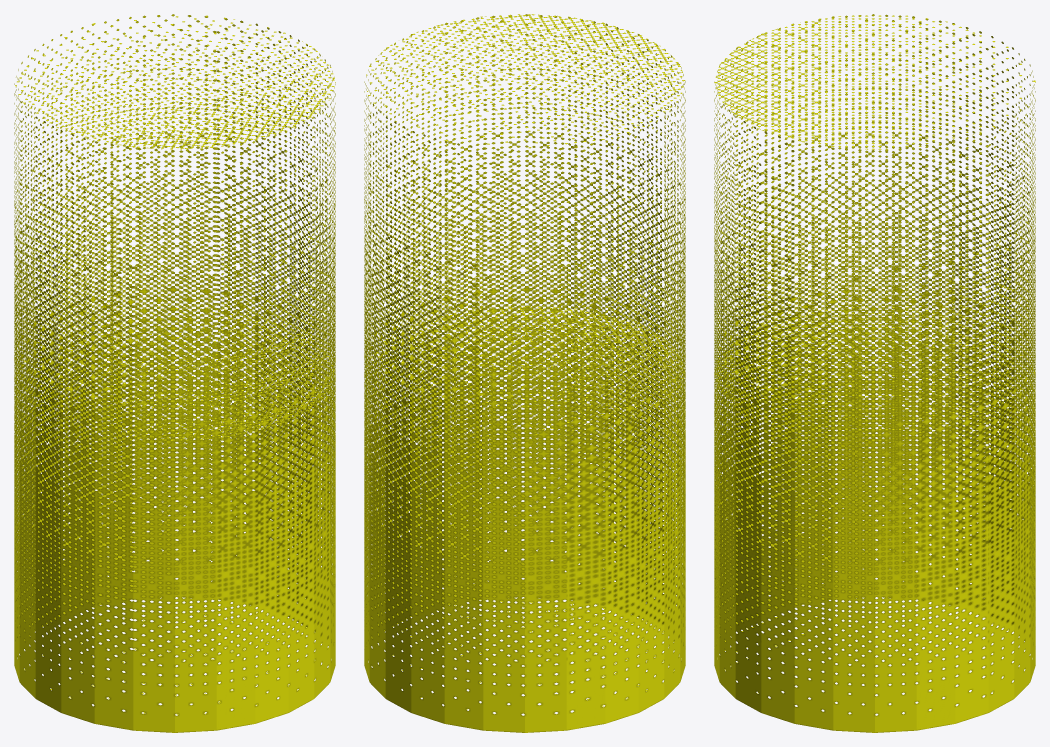
The model's file is goal2.obj.
3 renders of one model, left to right at view 1: azimuth 30°, elevation 25°; view 2: azimuth 150°, elevation 25°; view 3: azimuth 270°, elevation 25°, orthographic.
Visible parts, largest first — view 1: entity0_brush0, entity0_brush1; view 2: entity0_brush0, entity0_brush1; view 3: entity0_brush0, entity0_brush1.
Boxes of the visible parts, left/top/right/bottom form: entity0_brush0: left=14, top=305, right=335, bottom=732; entity0_brush1: left=14, top=14, right=335, bottom=441; entity0_brush0: left=364, top=305, right=685, bottom=732; entity0_brush1: left=364, top=14, right=685, bottom=441; entity0_brush0: left=714, top=305, right=1035, bottom=732; entity0_brush1: left=714, top=14, right=1035, bottom=441.
Size of the model in its own units: 96 by 192 by 96.
Materials: 1 (1 with a texture image).
